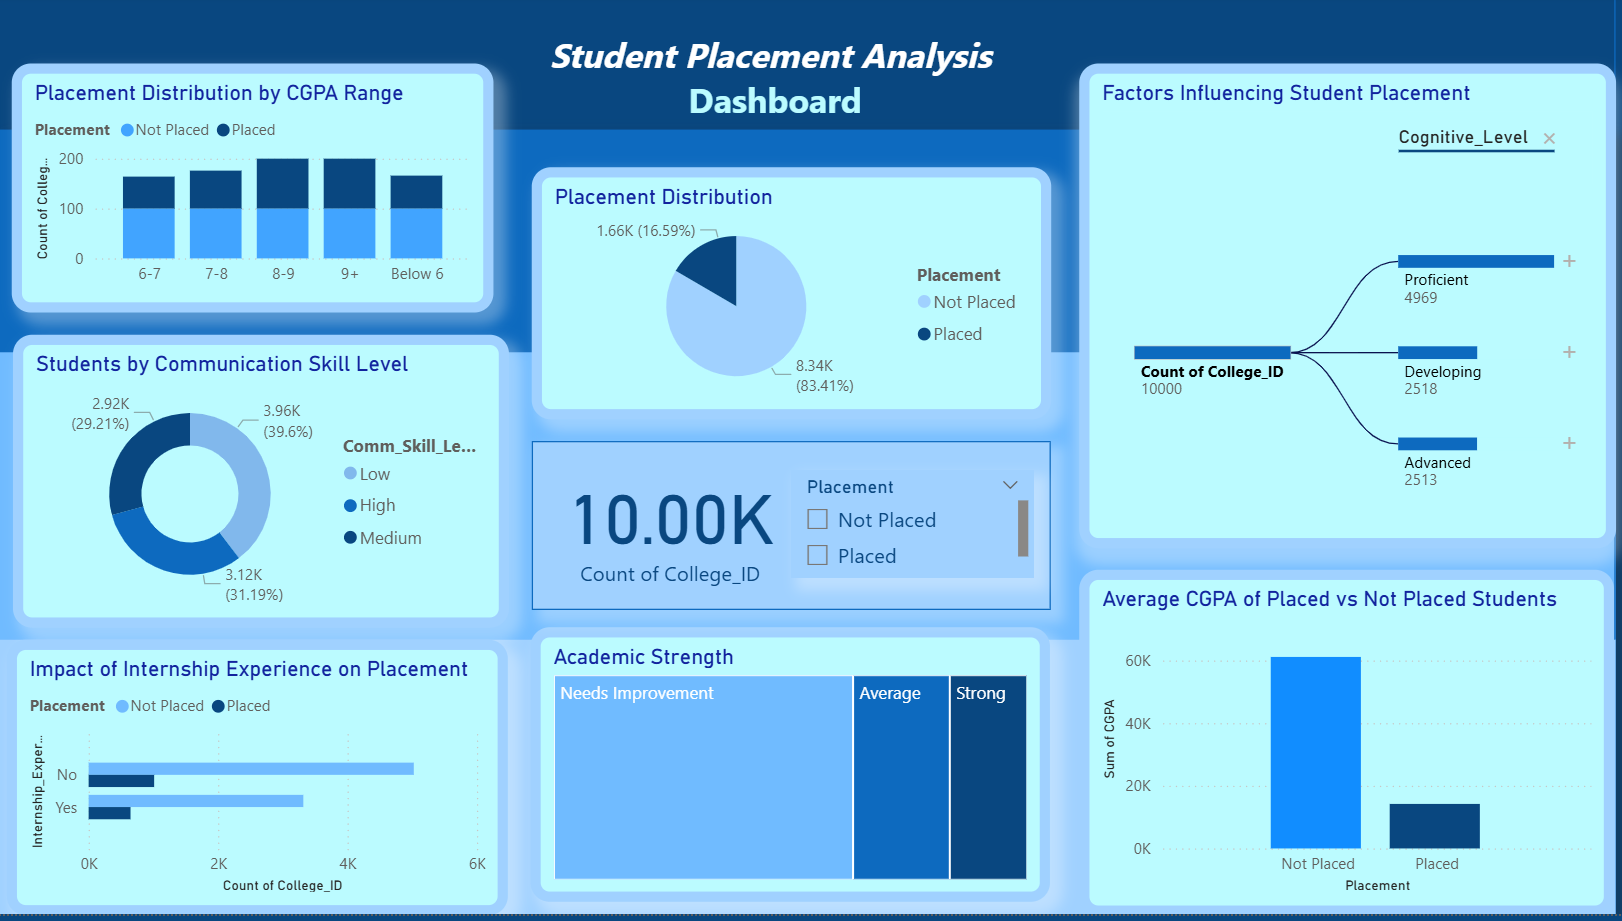

What the dashboard file says about the page in this screenshot:
{"tool":"powerbi","page":{"name":"Page 1","canvas":[1280,720],"ordinal":0},"visuals":[{"type":"shape","box":[0,0,1268,310.2],"z":0},{"type":"shape","box":[0,105.1,1268,615.1],"z":1000},{"type":"shape","box":[0,278.6,1268,441.6],"z":2000},{"type":"shape","box":[0,504.7,1268,215.5],"z":3000},{"type":"columnChart","title":"Placement Distribution by CGPA Range","fields":{"Category":["Sheet1.CGPA_Range"],"Series":["Sheet1.Placement"],"Y":["Count(Sheet1.College_ID)"]},"box":[10.8,52.7,377.5,195.4],"z":4000},{"type":"donutChart","title":"Students by Communication Skill Level","fields":{"Category":["Sheet1.Comm_Skill_Level"],"Y":["CountNonNull(Sheet1.College_ID)"]},"box":[11.4,265.9,388.6,229.6],"z":5000},{"type":"clusteredBarChart","title":"Impact of Internship Experience on Placement","fields":{"Category":["Sheet1.Internship_Experience"],"Y":["CountNonNull(Sheet1.College_ID)"],"Series":["Sheet1.Placement"]},"box":[6.8,504.6,393.2,215.9],"z":6000},{"type":"decompositionTreeVisual","title":"Factors Influencing Student Placement","fields":{"Analyze":["CountNonNull(Sheet1.College_ID)"],"ExplainBy":["Sheet1.Cognitive_Level","Sheet1.Comm_Skill_Level","Sheet1.Internship_Experience","Sheet1.Placement","Sheet1.CGPA_Range"]},"box":[847.3,52.7,420.7,379.9],"z":7000},{"type":"treemap","title":"Academic Strength","fields":{"Values":["CountNonNull(Sheet1.College_ID)"],"Group":["Sheet1.Academic_Strength"]},"box":[417.4,495.2,406.9,215.5],"z":8000},{"type":"shape","box":[418.5,349.1,406.9,132.5],"z":8500},{"type":"card","fields":{"Values":["CountNonNull(Sheet1.College_ID)"]},"box":[433.2,359.6,188.2,109.3],"z":9000},{"type":"pieChart","title":"Placement Distribution","fields":{"Category":["Sheet1.Placement"],"Y":["CountNonNull(Sheet1.College_ID)"]},"box":[418.2,134.1,406.8,197.7],"z":10000},{"type":"clusteredColumnChart","title":"Average CGPA of Placed vs Not Placed Students","fields":{"Category":["Sheet1.Placement"],"Y":["Sum(Sheet1.CGPA)"]},"box":[847.3,449.4,419.5,270.9],"z":11000},{"type":"slicer","fields":{"Values":["Sheet1.Placement"]},"box":[621.4,371.1,191.4,85.2],"z":12000},{"type":"textbox","box":[418.5,22.1,374.3,83.1],"z":13000}]}

Visuals, with their boxes in screenshot pixels (x1, y1, x2, y2), scaled from the page's 1280x720 canvas onto the 1622x921 screenshot:
shape: l=0, t=0, r=1607, b=397
shape: l=0, t=134, r=1607, b=920
shape: l=0, t=356, r=1607, b=920
shape: l=0, t=646, r=1607, b=920
"Placement Distribution by CGPA Range" columnChart: l=14, t=67, r=492, b=317
"Students by Communication Skill Level" donutChart: l=14, t=340, r=507, b=634
"Impact of Internship Experience on Placement" clusteredBarChart: l=9, t=645, r=507, b=920
"Factors Influencing Student Placement" decompositionTreeVisual: l=1074, t=67, r=1607, b=553
"Academic Strength" treemap: l=529, t=633, r=1045, b=909
shape: l=530, t=447, r=1046, b=616
card - CountNonNull(Sheet1.College_ID): l=549, t=460, r=787, b=600
"Placement Distribution" pieChart: l=530, t=172, r=1045, b=424
"Average CGPA of Placed vs Not Placed Students" clusteredColumnChart: l=1074, t=575, r=1605, b=920
slicer - Sheet1.Placement: l=787, t=475, r=1030, b=584
textbox: l=530, t=28, r=1005, b=135
